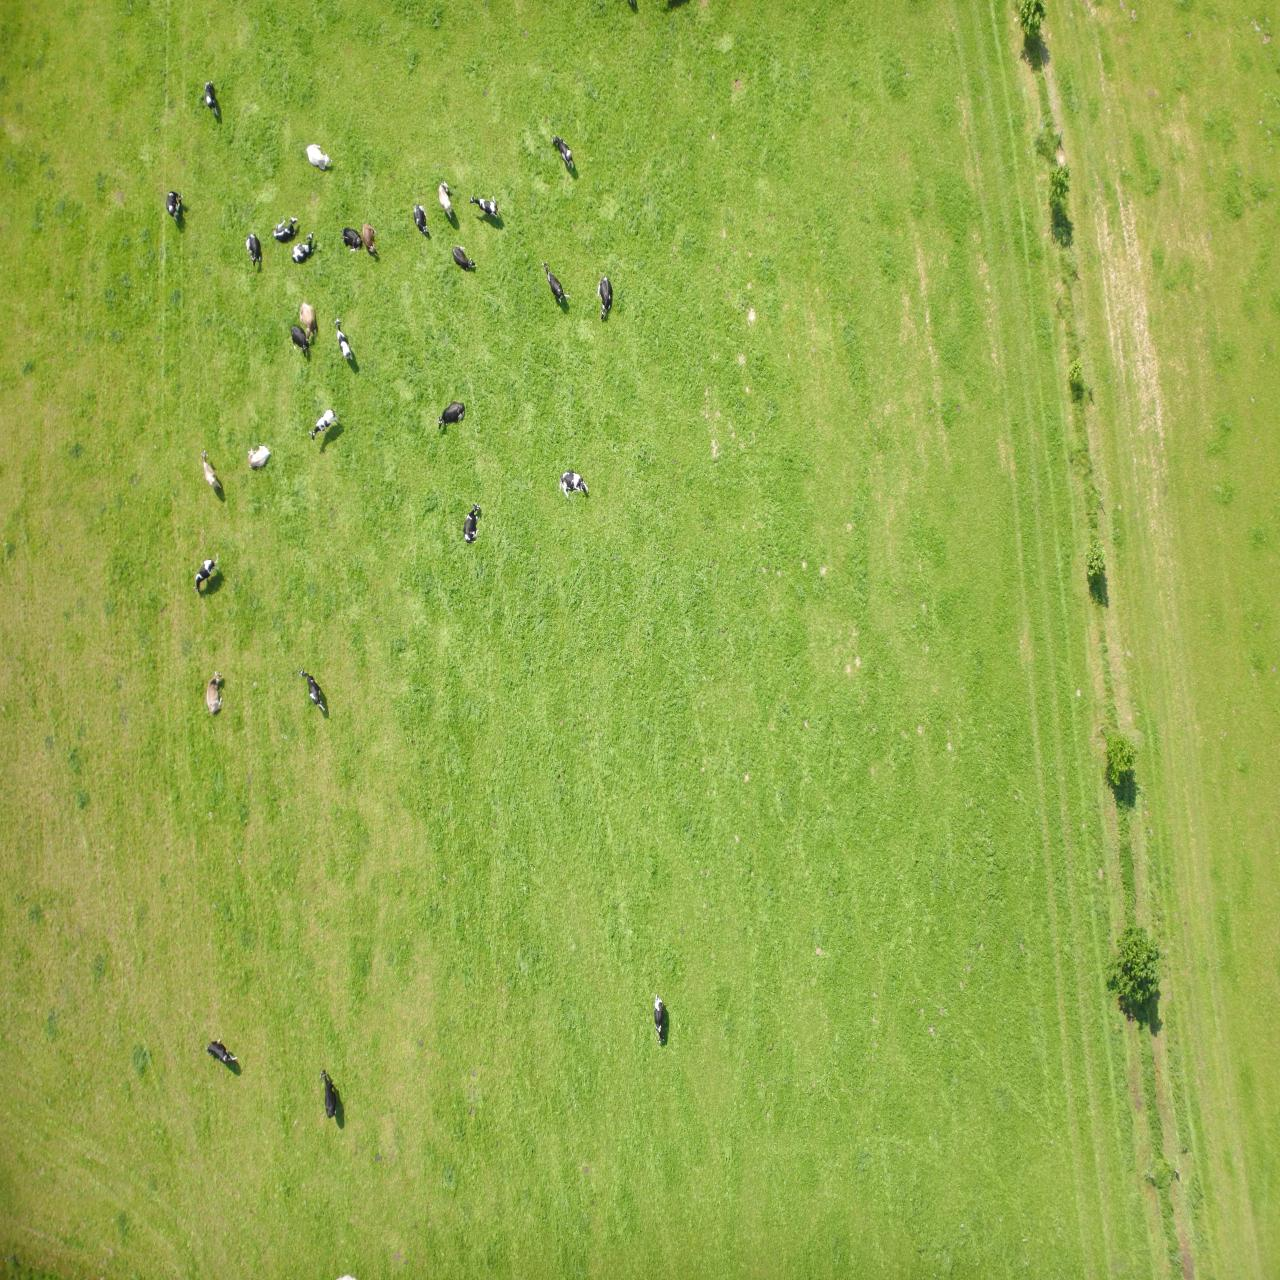cow: (954, 568, 981, 612), (710, 976, 737, 1019), (1062, 688, 1087, 729), (945, 838, 971, 874), (926, 918, 945, 965), (1058, 790, 1080, 831), (1042, 216, 1074, 243), (778, 1060, 810, 1087), (706, 1112, 730, 1146), (964, 1014, 986, 1050), (944, 161, 959, 211), (816, 851, 843, 878), (1057, 565, 1074, 608), (667, 960, 683, 1003), (803, 1009, 829, 1036), (947, 1109, 973, 1136), (799, 736, 816, 778), (981, 1036, 1006, 1064), (961, 940, 980, 976), (692, 785, 722, 808), (917, 1021, 937, 1054), (971, 922, 989, 956), (850, 1042, 867, 1076), (900, 1024, 918, 1057), (1009, 811, 1033, 835), (826, 1061, 840, 1099), (614, 237, 625, 286), (1019, 1014, 1034, 1047), (1061, 1163, 1075, 1198), (1097, 1060, 1114, 1089)
